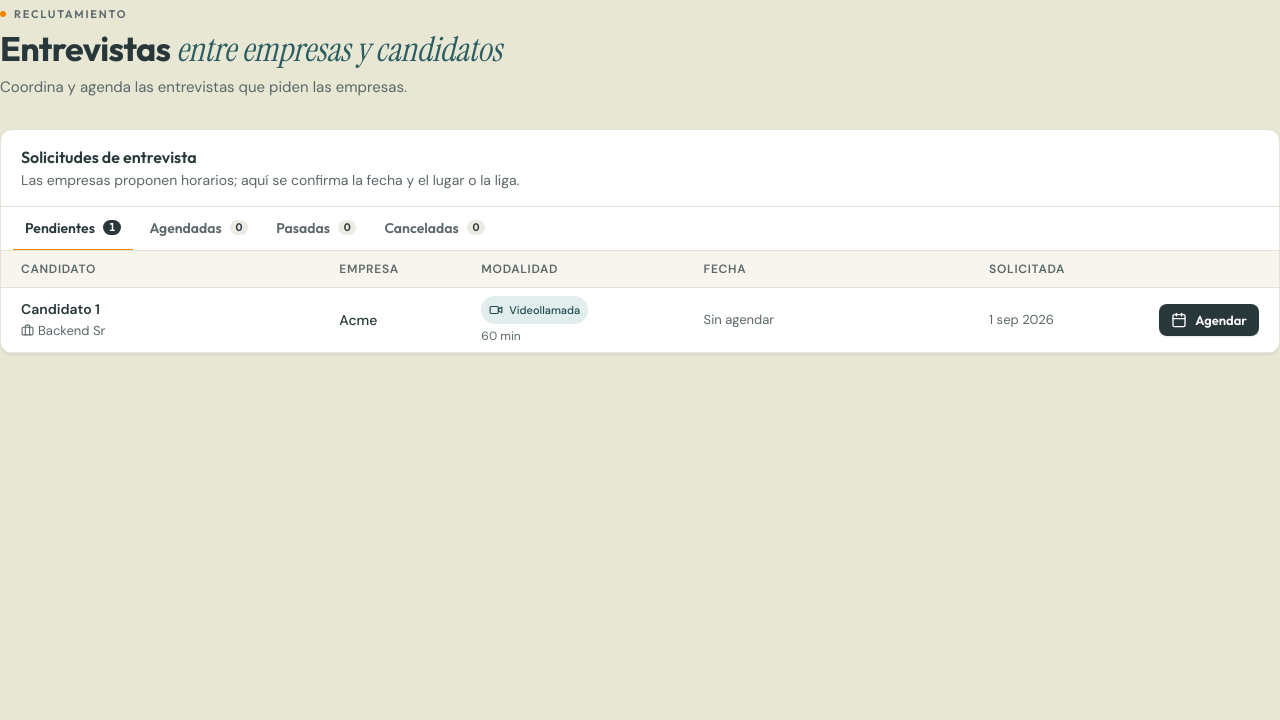
Test: /admin/interviews › ADM-007/008: cancelar una pendiente manda sólo estado y notas, y el éxito cierra el modal
The width and height of the screenshot is (1280, 720).
Click the button "Agendar". click: click(1209, 320)
box: [1159,304,1259,336]
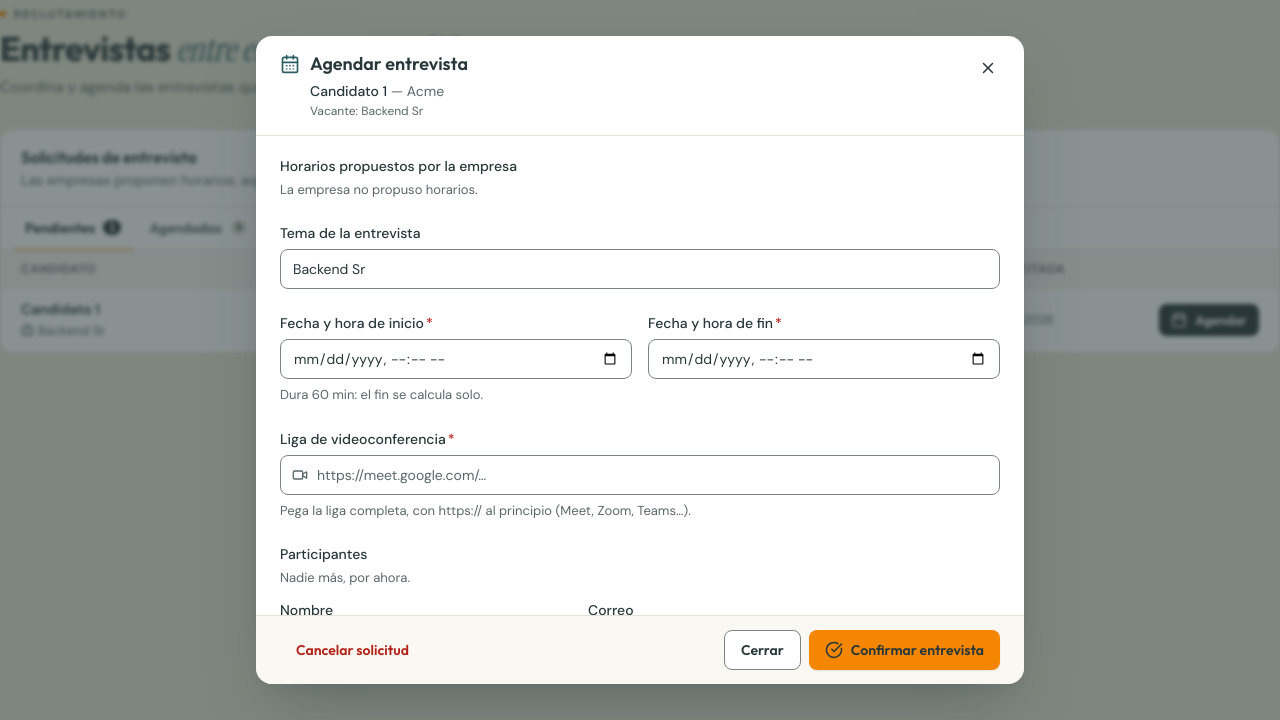
Click the button "Cancelar solicitud". click: click(352, 650)
box: [280,630,425,670]
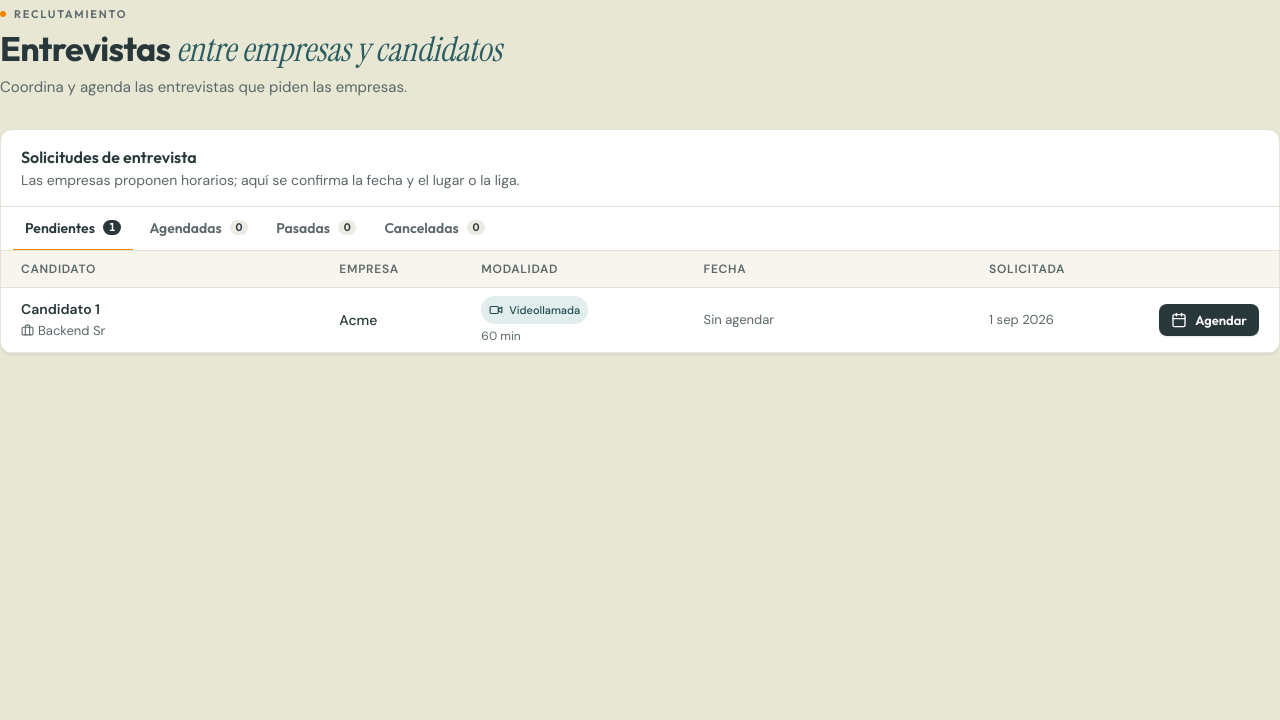
Now the button "Cancelar solicitud" is gone
